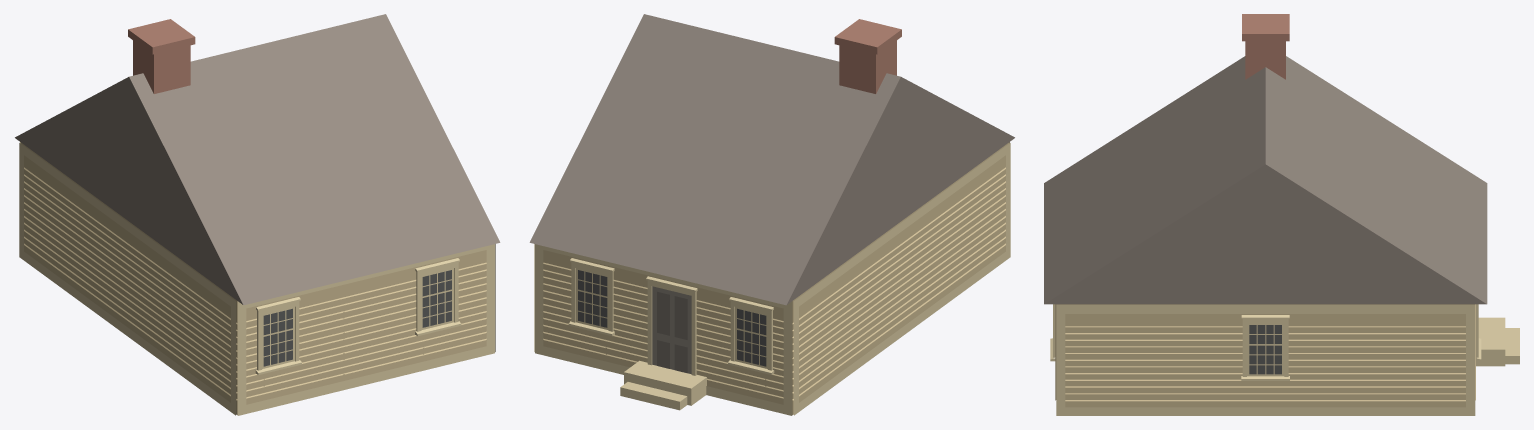
The model's file is recon_1835_north_d4_018__inferred_1835.glb.
3 renders of one model, left to right at view 1: azimuth 30°, elevation 25°; view 2: azimuth 150°, elevation 25°; view 3: azimuth 270°, elevation 25°, orthographic. The views are drawn at different scales.
Visible parts, largest first — view 1: recon_1835_north_d4_018__inferred_1835; view 2: recon_1835_north_d4_018__inferred_1835; view 3: recon_1835_north_d4_018__inferred_1835.
Part boxes in pixels (x1,y1,x2,y2): recon_1835_north_d4_018__inferred_1835: (15,14,500,415); recon_1835_north_d4_018__inferred_1835: (529,14,1014,415); recon_1835_north_d4_018__inferred_1835: (1044,14,1519,415).
Size of the model in its own units: 6.06 by 6.48 by 9.79.
